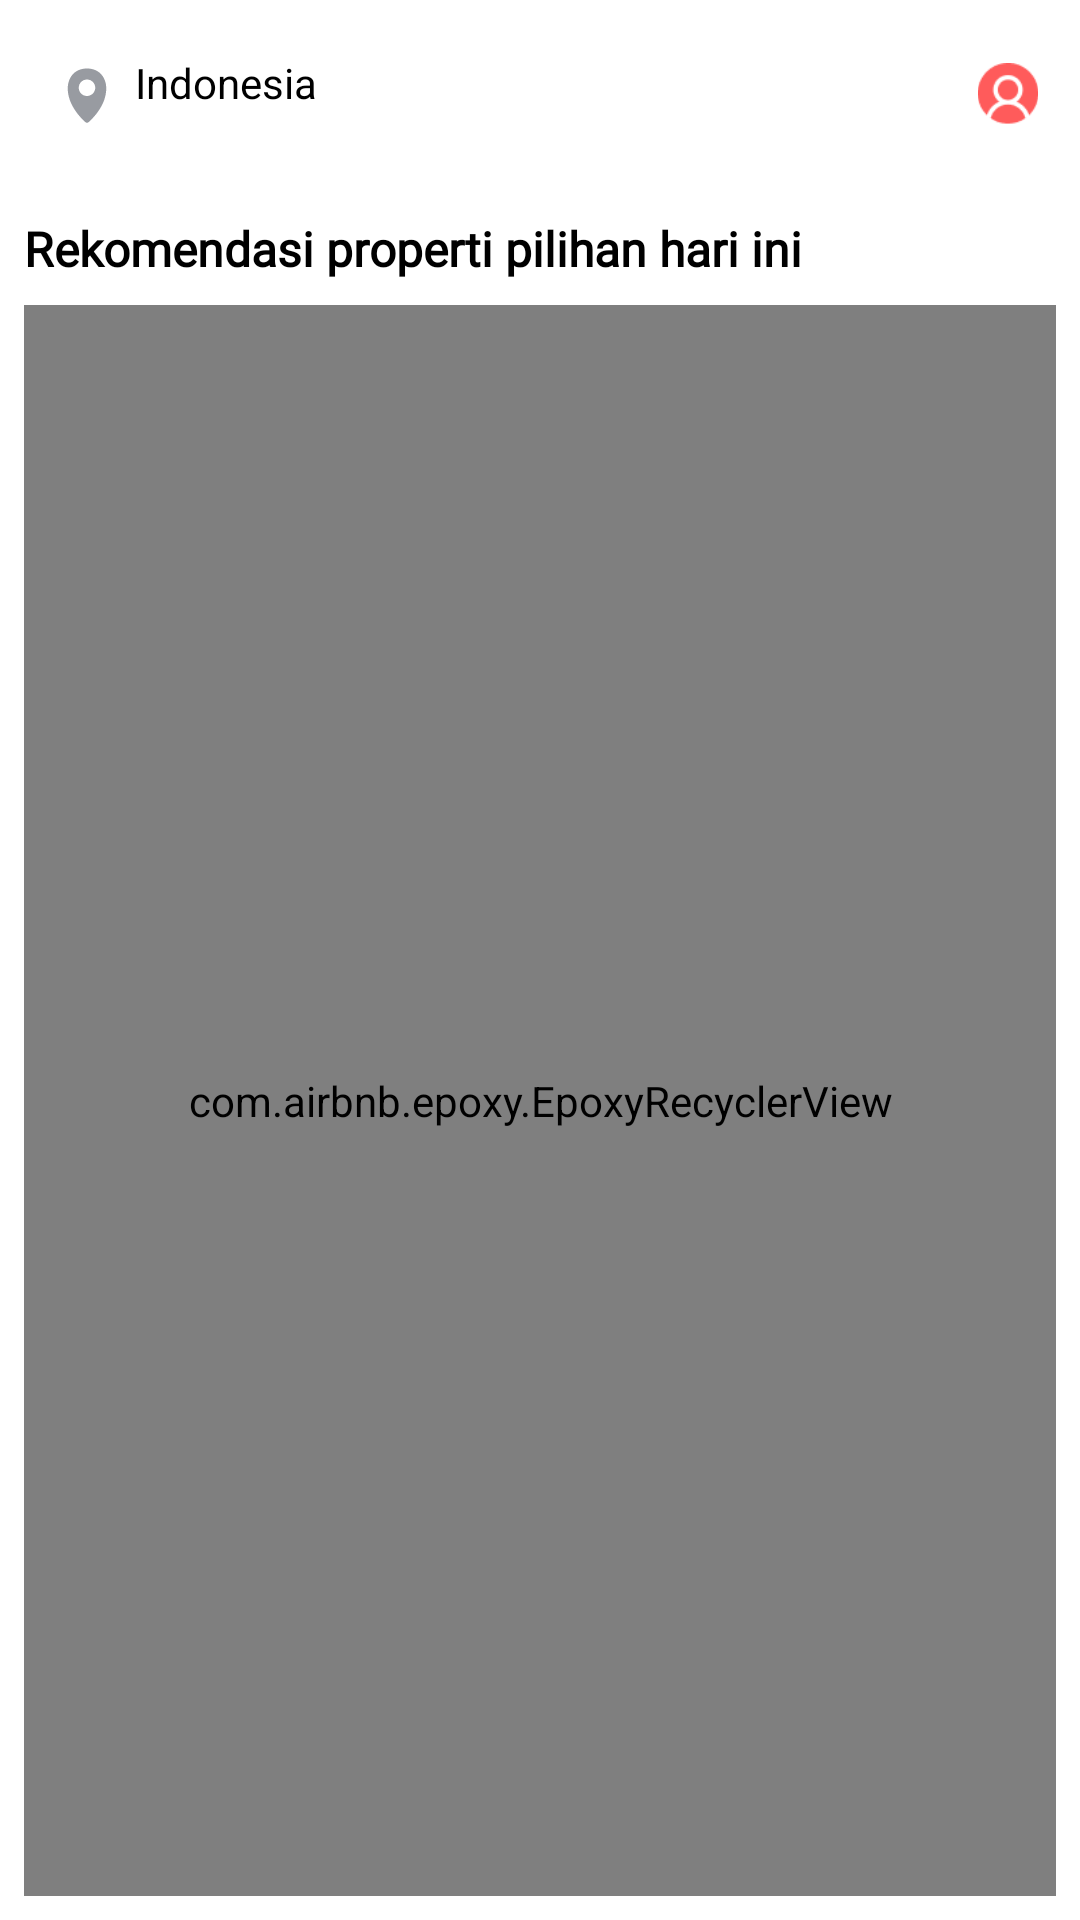

Icons on this 1080w x 1920h Android screen, each with the point to tap as point (x, y):
user circle: point (1008, 93)
